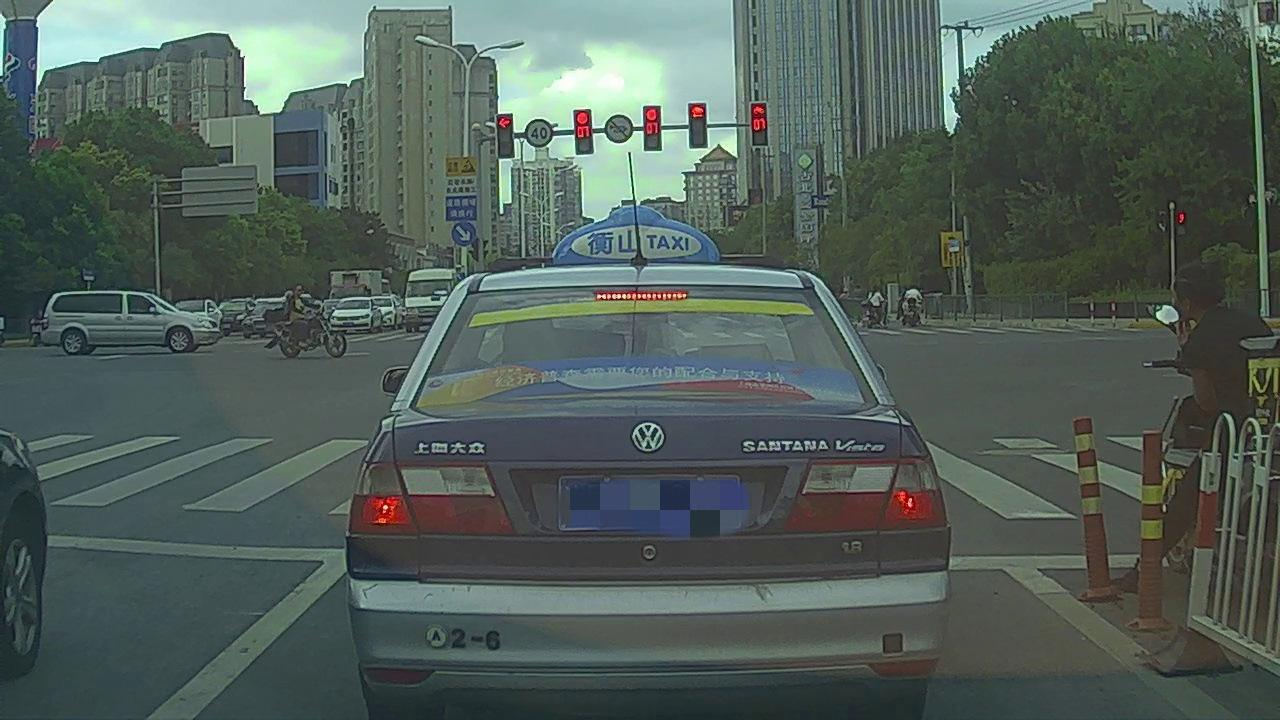traffic_light: (573, 109, 595, 155), (689, 104, 708, 148), (644, 106, 662, 152), (750, 100, 767, 146), (496, 115, 514, 157)
